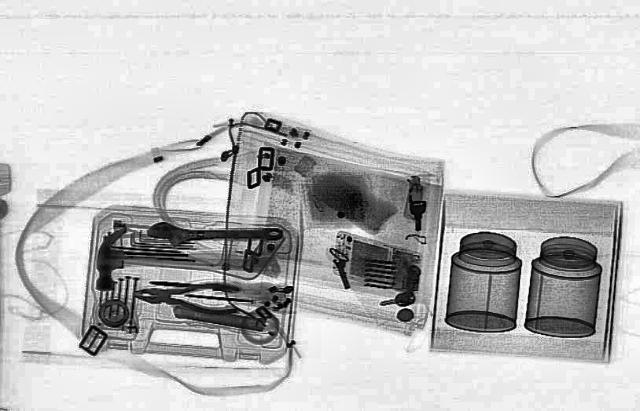Pliers: (130, 276, 240, 316)
Wrench: (146, 220, 280, 250)
